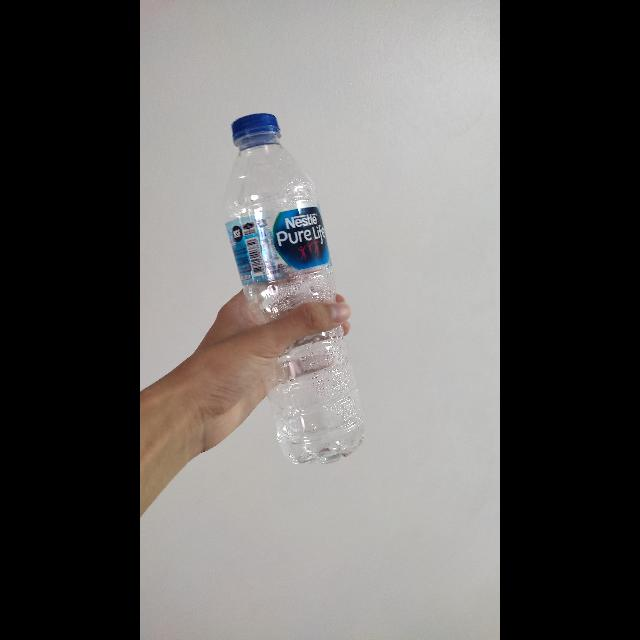plastic_bottle: (222, 105, 384, 473)
